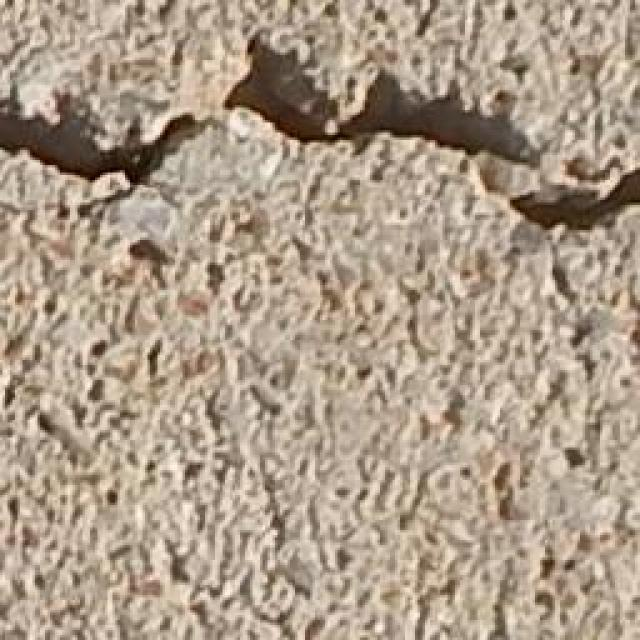concrete-crack: (0, 24, 640, 252)
